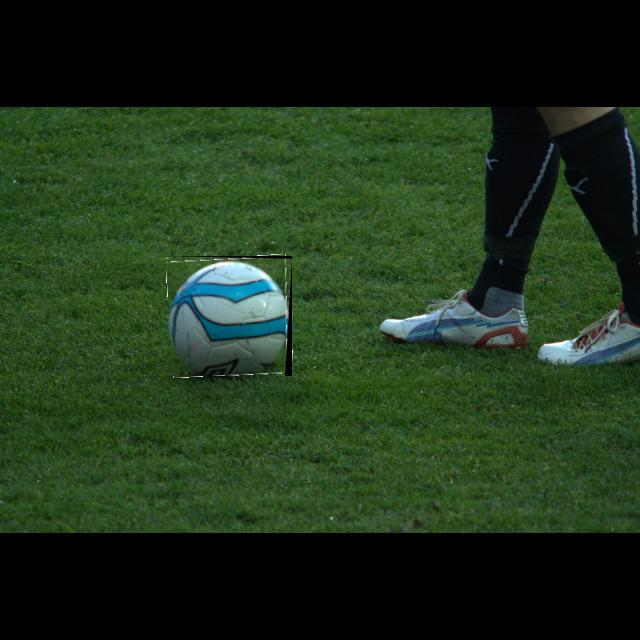Football: (168, 256, 292, 376)
